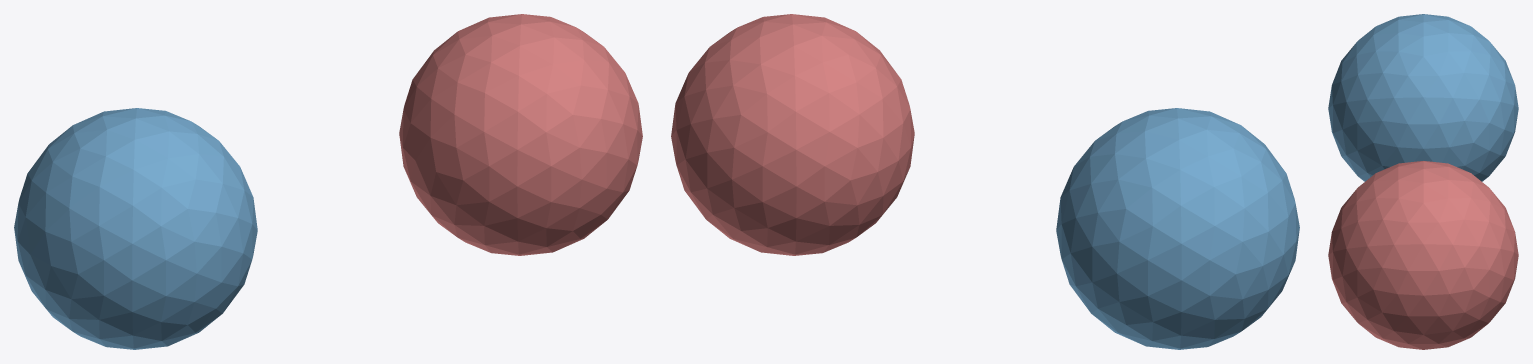
File: count2.glb
The picture shows the model from 3 angles, left to right: view 1: azimuth 30°, elevation 25°; view 2: azimuth 150°, elevation 25°; view 3: azimuth 270°, elevation 25°; orthographic projection. The views are drawn at different scales.
Visible parts, largest first — view 1: geometry_0; view 2: geometry_0; view 3: geometry_0.
Boxes of the visible parts, x1=… form: geometry_0: x1=14, y1=14, x2=642, y2=349; geometry_0: x1=671, y1=14, x2=1299, y2=349; geometry_0: x1=1328, y1=14, x2=1518, y2=349.
Size of the model in its own units: 0.9157 by 0.3243 by 0.3243.
